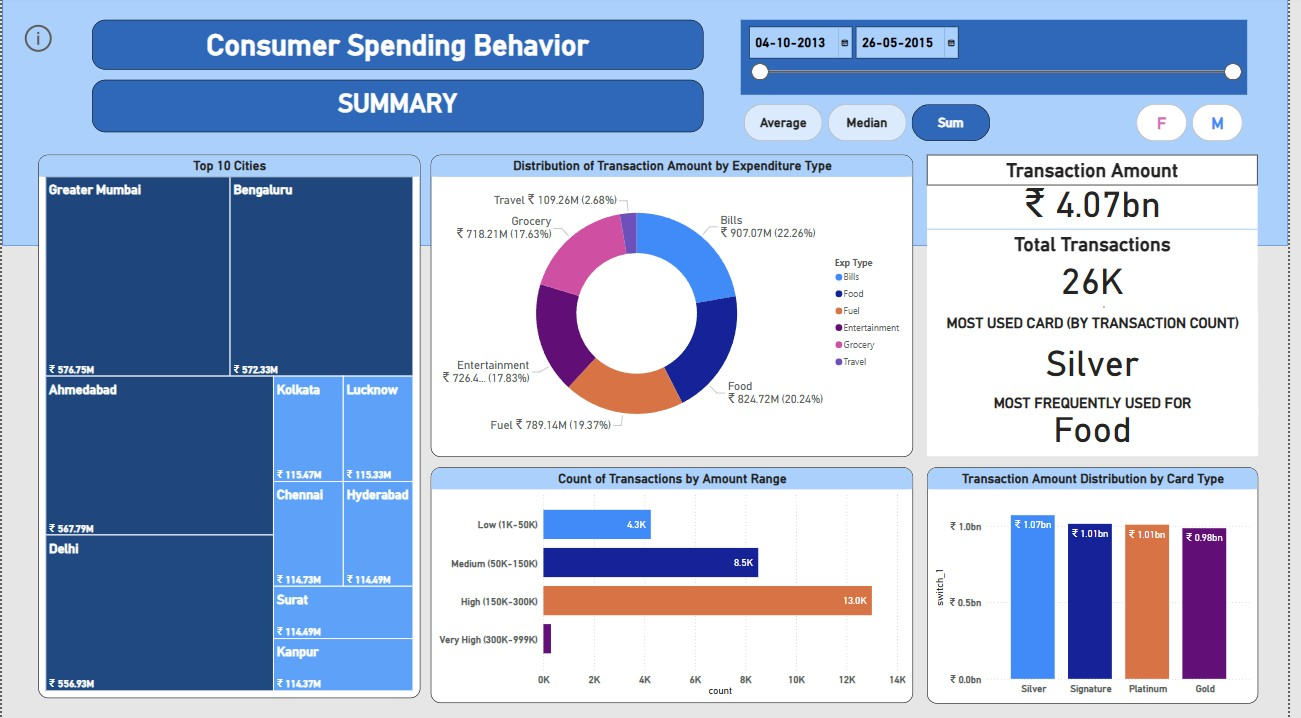

The dashboard page shown, as its layout file describes it:
{"tool":"powerbi","page":{"name":"Page 1","canvas":[1920,1080],"ordinal":0},"visuals":[{"type":"shape","box":[0,0,1920.1,373.2],"z":0},{"type":"card","fields":{"Values":["Indian_credit_card.Top1CardUsed"]},"box":[1380.8,514.7,494.1,74.9],"z":0,"group":"g2"},{"type":"card","fields":{"Values":["Indian_credit_card.Top1ExpUsed"]},"box":[1381.1,616.2,494.5,70.9],"z":0,"group":"g1"},{"type":"slicer","fields":{"Values":["Indian_credit_card.Date"]},"box":[1102.8,35.5,755.7,112],"z":1000},{"type":"textbox","box":[1380.8,470.2,494.1,44.5],"z":1000,"group":"g2"},{"type":"textbox","box":[1380.8,589.6,494.2,39.1],"z":1000,"group":"g1"},{"type":"advancedSlicerVisual","fields":{"Values":["Indian_credit_card.Gender"]},"box":[1688.7,156.7,169.8,65.3],"z":2000},{"type":"treemap","title":"Top 10 Cities","fields":{"Group":["Indian_credit_card.Text Before Delimiter"],"Values":["Indian_credit_card.switch_1"]},"box":[53.5,236.7,570.2,811],"z":3000},{"type":"barChart","title":"Count of Transactions by Amount Range","fields":{"Category":["Indian_credit_card.Amount_Range"],"Y":["Indian_credit_card.count"],"Series":["Indian_credit_card.Amount_Range"]},"box":[640,704,720,352],"z":4000},{"type":"donutChart","title":"Distribution of Transaction Amount by Expenditure Type","fields":{"Category":["Indian_credit_card.Exp Type"],"Y":["Indian_credit_card.switch_1"]},"box":[640,237,720.3,451.6],"z":5000},{"type":"columnChart","title":"Transaction Amount Distribution by Card Type","fields":{"Category":["Indian_credit_card.Card Type"],"Y":["Indian_credit_card.switch_1"],"Series":["Indian_credit_card.Card Type"]},"box":[1380.8,703.5,494.5,352.7],"z":6000},{"type":"advancedSlicerVisual","fields":{"Values":["Method.work"]},"box":[1102.8,156.7,378.8,65.3],"z":7000},{"type":"card","fields":{"Values":["Indian_credit_card.switch_1"]},"box":[1381.1,282.3,494,65.6],"z":7000,"group":"g3"},{"type":"card","fields":{"Values":["Indian_credit_card.count"]},"box":[1380.8,387.3,493.8,82.9],"z":8000,"group":"g4"},{"type":"group","id":"g1","title":"Group 1","box":[1380.8,589.6,494.5,98.9],"z":8000},{"type":"group","id":"g2","title":"Group 2","box":[1380.8,470.2,496.3,119.4],"z":9000},{"type":"group","id":"g3","title":"Group 3","box":[1381.1,236.7,494,111.1],"z":10000},{"type":"textbox","box":[1381.1,236.7,494,45.6],"z":10002,"group":"g3"},{"type":"textbox","box":[1381.4,348.9,493.8,48.6],"z":10003,"group":"g4"},{"type":"group","id":"g4","title":"Group 4","box":[1380.8,348.9,494.5,121.3],"z":11000},{"type":"textbox","box":[134.3,125,912.4,78.4],"z":13000},{"type":"textbox","box":[134.3,35.5,912.4,74.6],"z":14251},{"type":"actionButton","box":[28,35.5,52.2,56],"z":14501}]}

Visuals, with their boxes in screenshot pixels (x1, y1, x2, y2), scaled from the page's 1920x1080 canvas onto the 1301x718 screenshot:
shape: <box>0,0,1300,248</box>
card - Indian_credit_card.Top1CardUsed: <box>936,342,1270,392</box>
card - Indian_credit_card.Top1ExpUsed: <box>936,410,1271,457</box>
slicer - Indian_credit_card.Date: <box>747,24,1259,98</box>
textbox: <box>936,313,1270,342</box>
textbox: <box>936,392,1271,418</box>
advancedSlicerVisual - Indian_credit_card.Gender: <box>1144,104,1259,148</box>
"Top 10 Cities" treemap: <box>36,157,423,697</box>
"Count of Transactions by Amount Range" barChart: <box>434,468,922,702</box>
"Distribution of Transaction Amount by Expenditure Type" donutChart: <box>434,158,922,458</box>
"Transaction Amount Distribution by Card Type" columnChart: <box>936,468,1271,702</box>
advancedSlicerVisual - Method.work: <box>747,104,1004,148</box>
card - Indian_credit_card.switch_1: <box>936,188,1271,231</box>
card - Indian_credit_card.count: <box>936,257,1270,313</box>
"Group 1" group: <box>936,392,1271,458</box>
"Group 2" group: <box>936,313,1272,392</box>
"Group 3" group: <box>936,157,1271,231</box>
textbox: <box>936,157,1271,188</box>
textbox: <box>936,232,1271,264</box>
"Group 4" group: <box>936,232,1271,313</box>
textbox: <box>91,83,709,135</box>
textbox: <box>91,24,709,73</box>
actionButton: <box>19,24,54,61</box>
